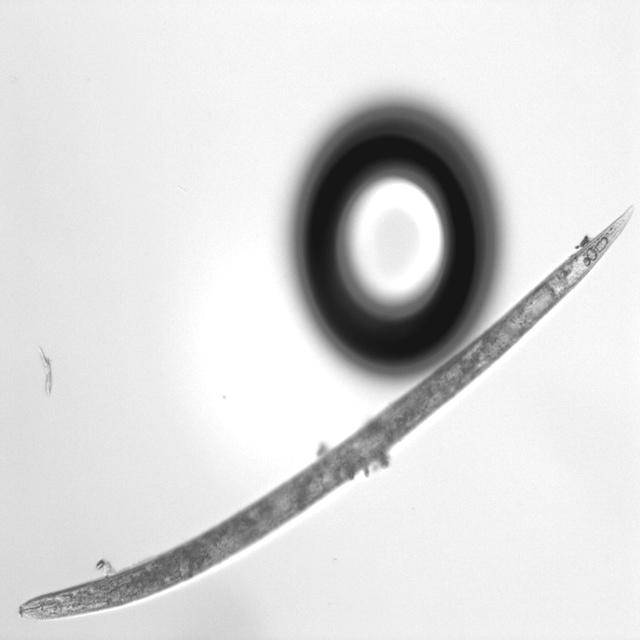Radopholus: (10, 196, 633, 624)
